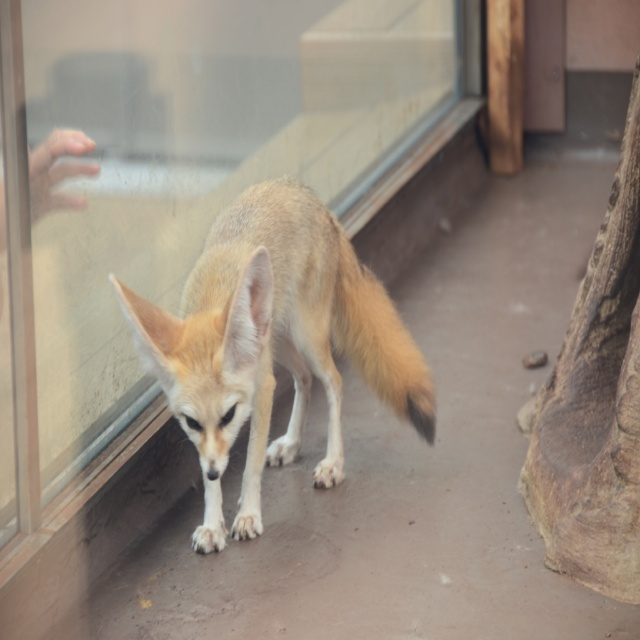Fox: (111, 169, 441, 560)
